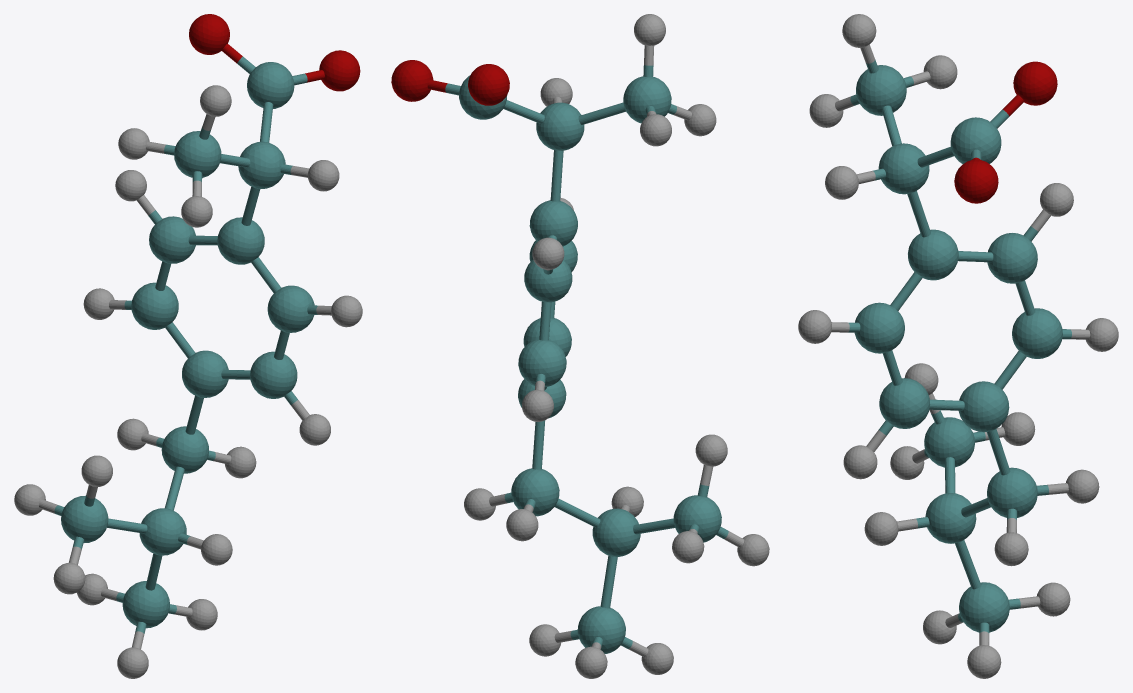
Rendered from ibuprofen_model.glb.
3 views of the same model, side by side, from view 1: azimuth 30°, elevation 25°; view 2: azimuth 150°, elevation 25°; view 3: azimuth 270°, elevation 25° (orthographic). The views are drawn at different scales.
Parts seen in each view (by area): view 1: Object_3; view 2: Object_3; view 3: Object_3.
Boxes of the visible parts, bbox=[...] form: Object_3: bbox=[14, 14, 362, 678]; Object_3: bbox=[391, 14, 769, 678]; Object_3: bbox=[798, 14, 1118, 678].
Size of the model in its own units: 0.9015 by 1.57 by 0.6991.
